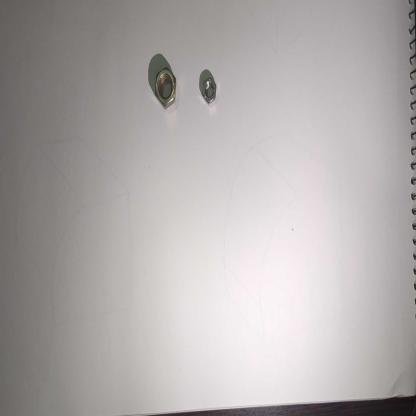NUTS: (152, 61, 180, 112), (201, 72, 221, 108)
